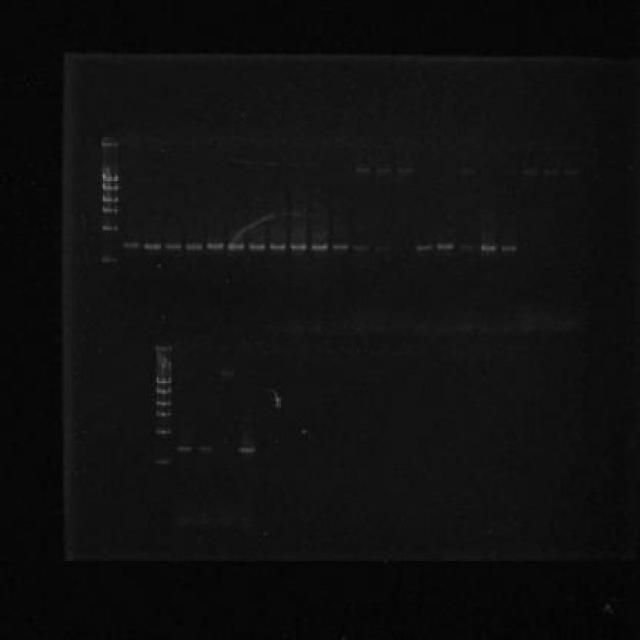B: (478, 243, 498, 251), (309, 243, 329, 251), (458, 167, 477, 175), (268, 242, 287, 250), (227, 242, 246, 250), (143, 243, 162, 251), (185, 243, 204, 251), (354, 166, 372, 174), (436, 242, 454, 250), (248, 242, 266, 250), (416, 243, 434, 251), (290, 243, 308, 251), (207, 242, 224, 250), (500, 243, 517, 251), (236, 447, 258, 453), (330, 244, 350, 250), (166, 242, 180, 250), (376, 166, 394, 172), (122, 243, 140, 249), (397, 167, 414, 173), (197, 446, 212, 452), (177, 446, 192, 452)
M: (92, 134, 123, 268), (152, 340, 176, 472)
P: (98, 253, 118, 264), (154, 456, 172, 467), (102, 182, 120, 192), (156, 397, 172, 408), (102, 224, 120, 233), (102, 194, 120, 203), (156, 427, 172, 436), (154, 409, 172, 417), (102, 206, 120, 214), (102, 173, 120, 181), (156, 387, 172, 395), (156, 376, 172, 384)
Pc: (98, 135, 120, 148), (153, 342, 173, 352)
